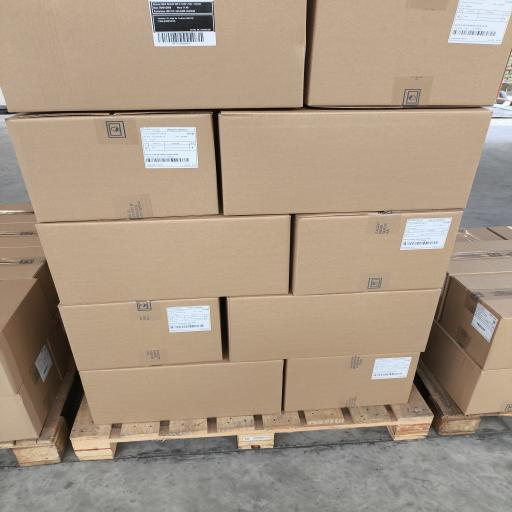pallet: (71, 387, 433, 460), (0, 358, 76, 466), (417, 360, 511, 435)
